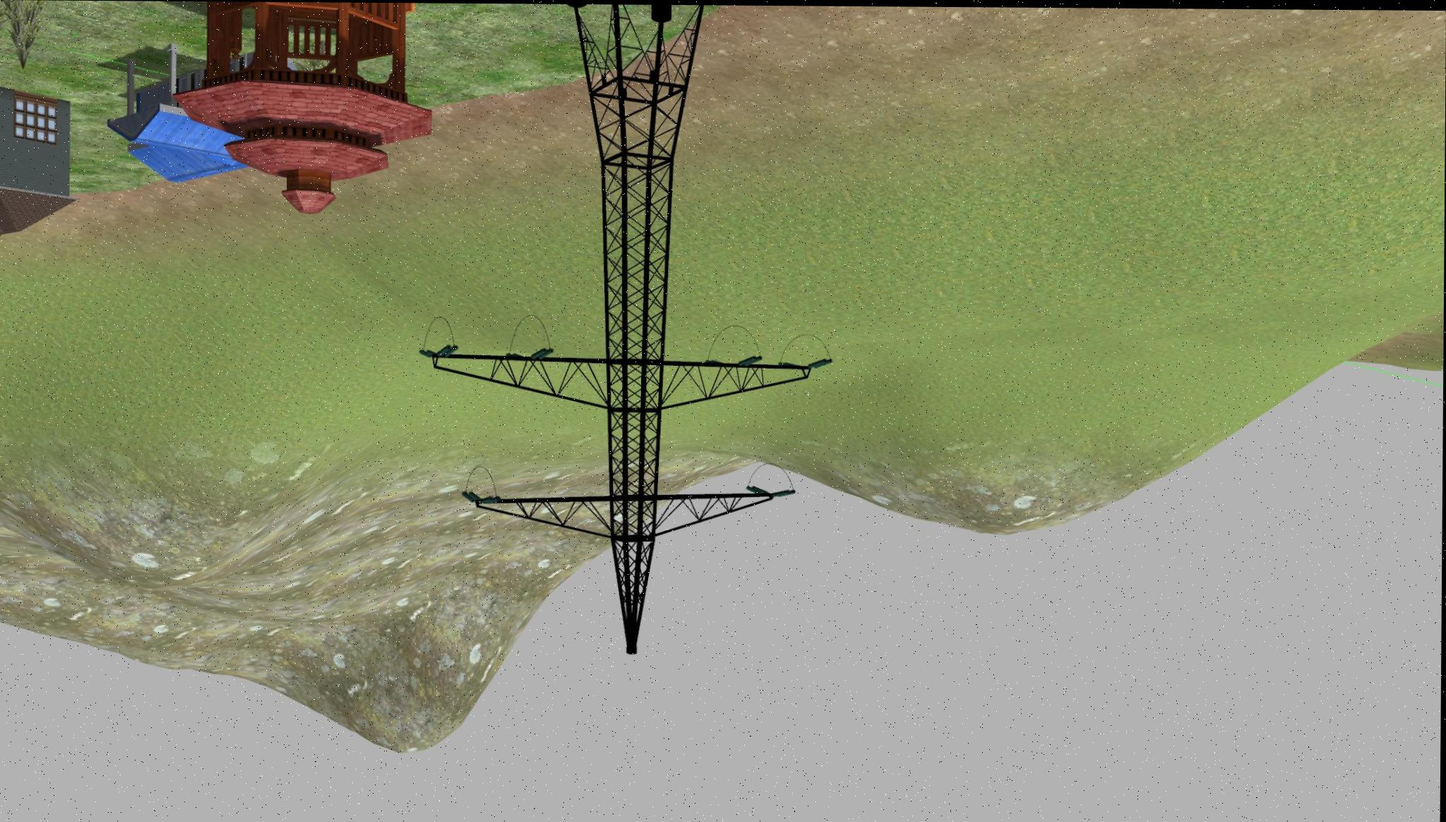tower: (426, 3, 815, 657)
